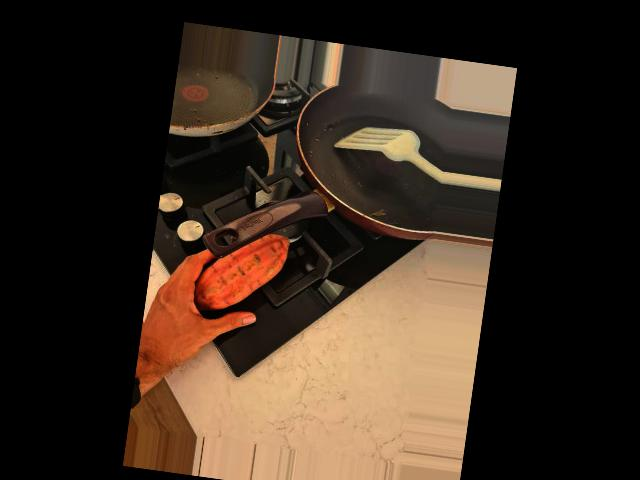sweet_potato: (192, 221, 293, 322)
